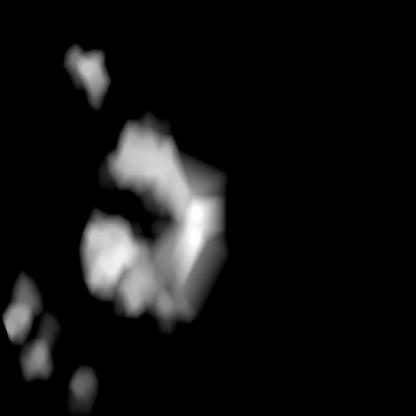fingers: (66, 42, 108, 108)
palm: (3, 273, 94, 409)
thumb: (82, 115, 224, 320)
